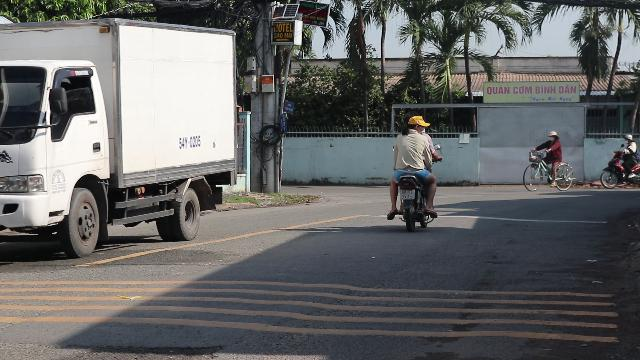licenseplate: (400, 190, 414, 198)
motorcyclist: (384, 114, 438, 231)
nohelmet: (406, 115, 429, 133)
